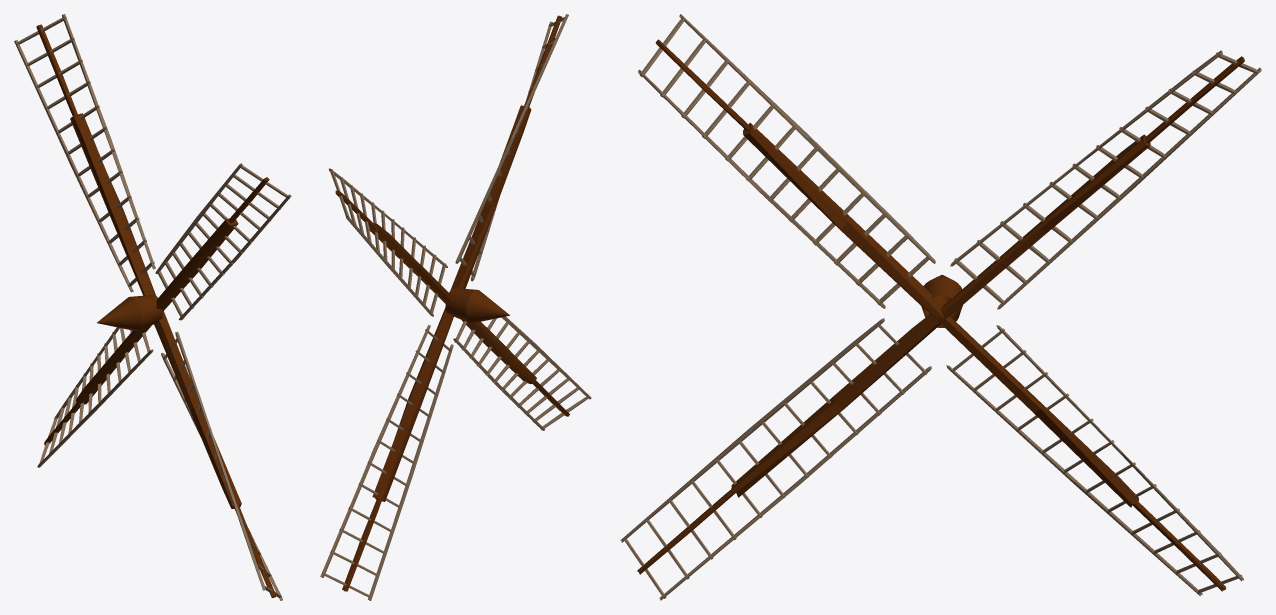
The model's file is WindmillWheel.fbx.
The picture shows the model from 3 angles, left to right: view 1: azimuth 30°, elevation 25°; view 2: azimuth 150°, elevation 25°; view 3: azimuth 270°, elevation 25°; orthographic projection. The views are drawn at different scales.
Visible parts, largest first — view 1: Windmill; view 2: Windmill; view 3: Windmill.
Part boxes in pixels (bbox=[...]): Windmill: bbox=[14, 14, 291, 600]; Windmill: bbox=[320, 14, 591, 600]; Windmill: bbox=[620, 14, 1261, 600].
Bounding box in the file's own units: 28.11 × 157 × 157.
